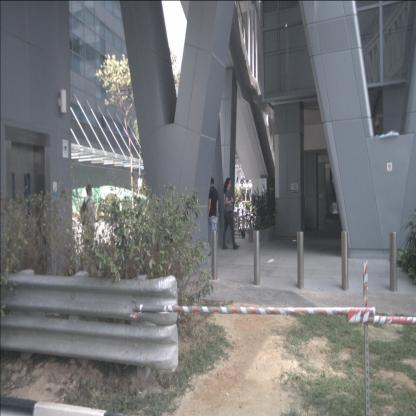human-pedestrian-adult: (79, 184, 96, 266), (222, 177, 240, 250), (207, 177, 219, 257)
